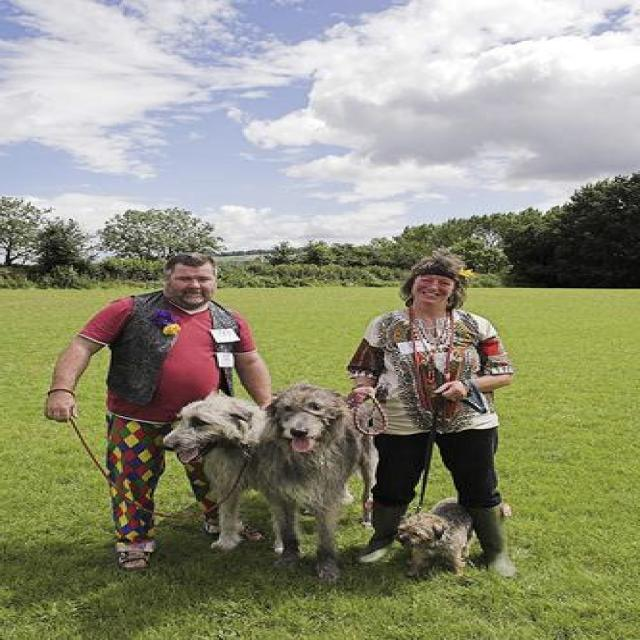irish_wolfhound: (273, 382, 375, 586), (159, 396, 273, 554), (388, 494, 486, 582)
